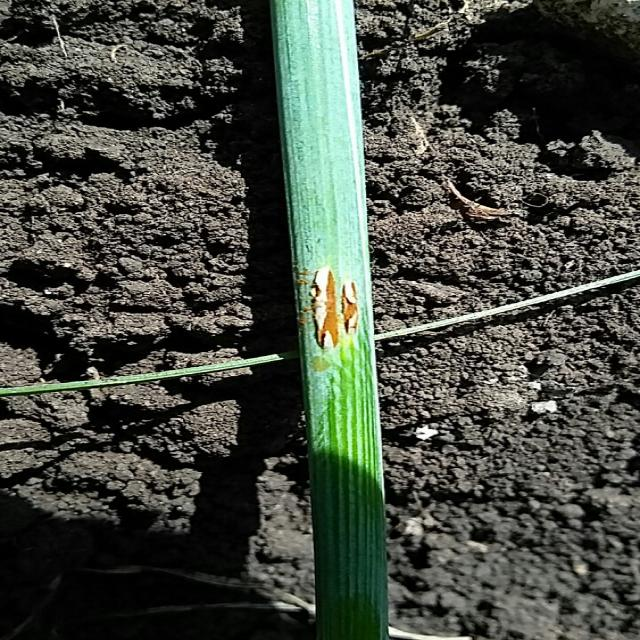wheat-stemrust: (286, 229, 374, 470)
